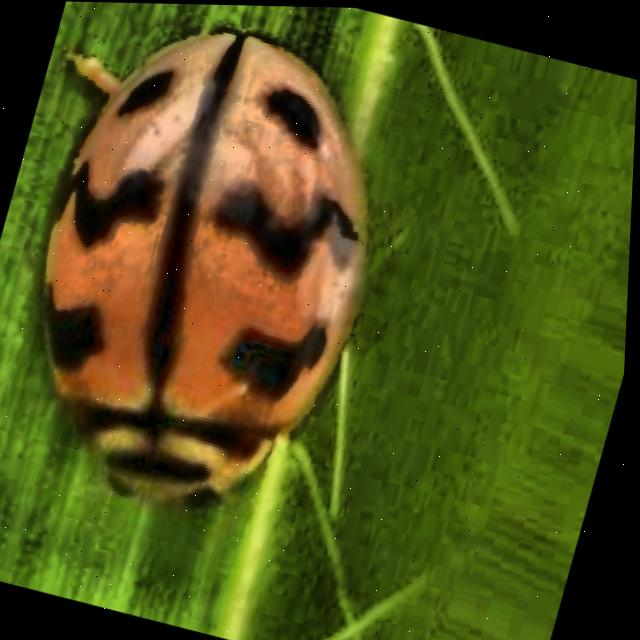Asian-Lady-beetle: (0, 0, 561, 640)
